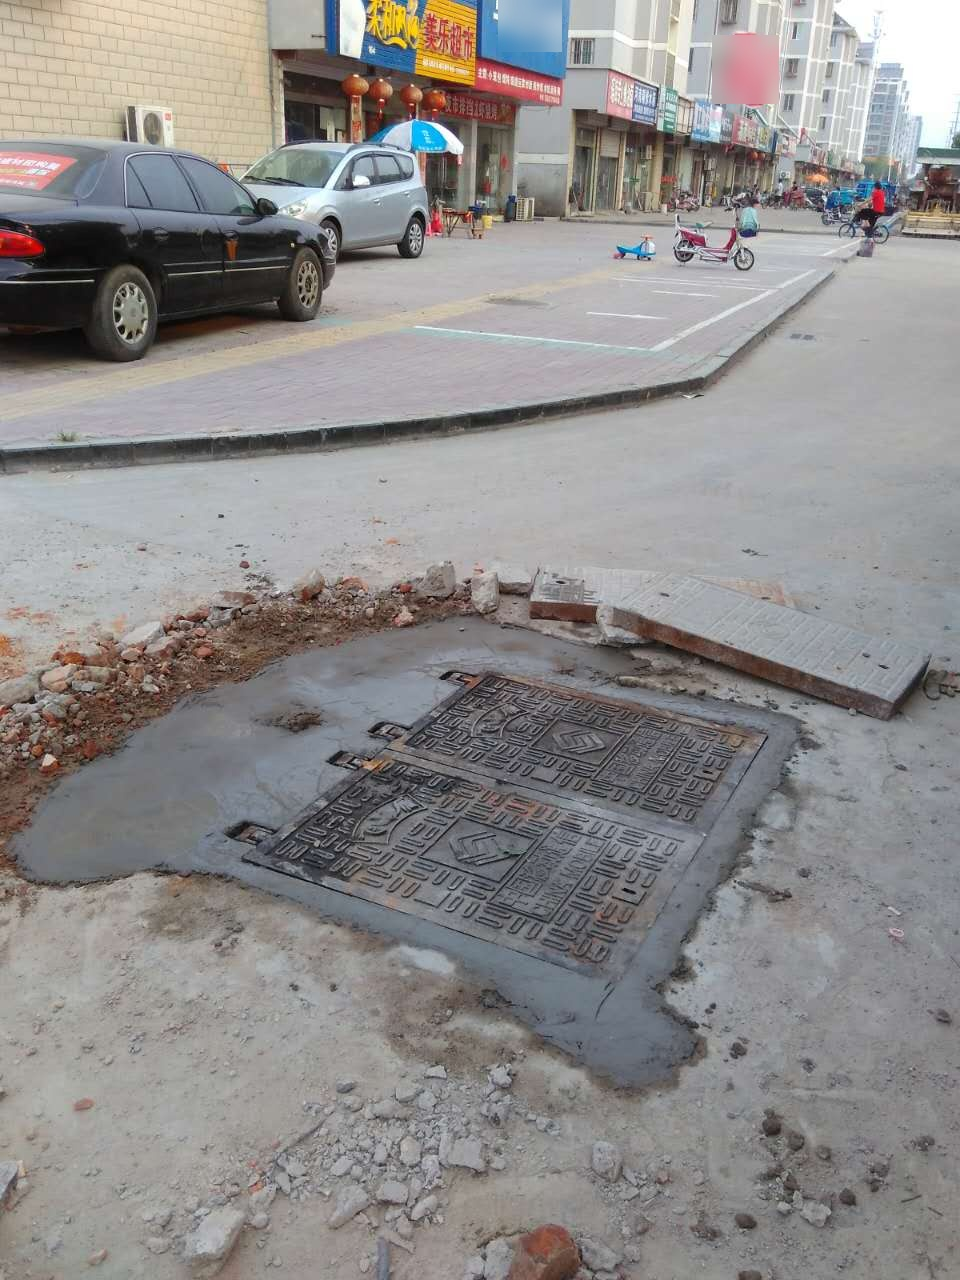good: (236, 662, 772, 984)
